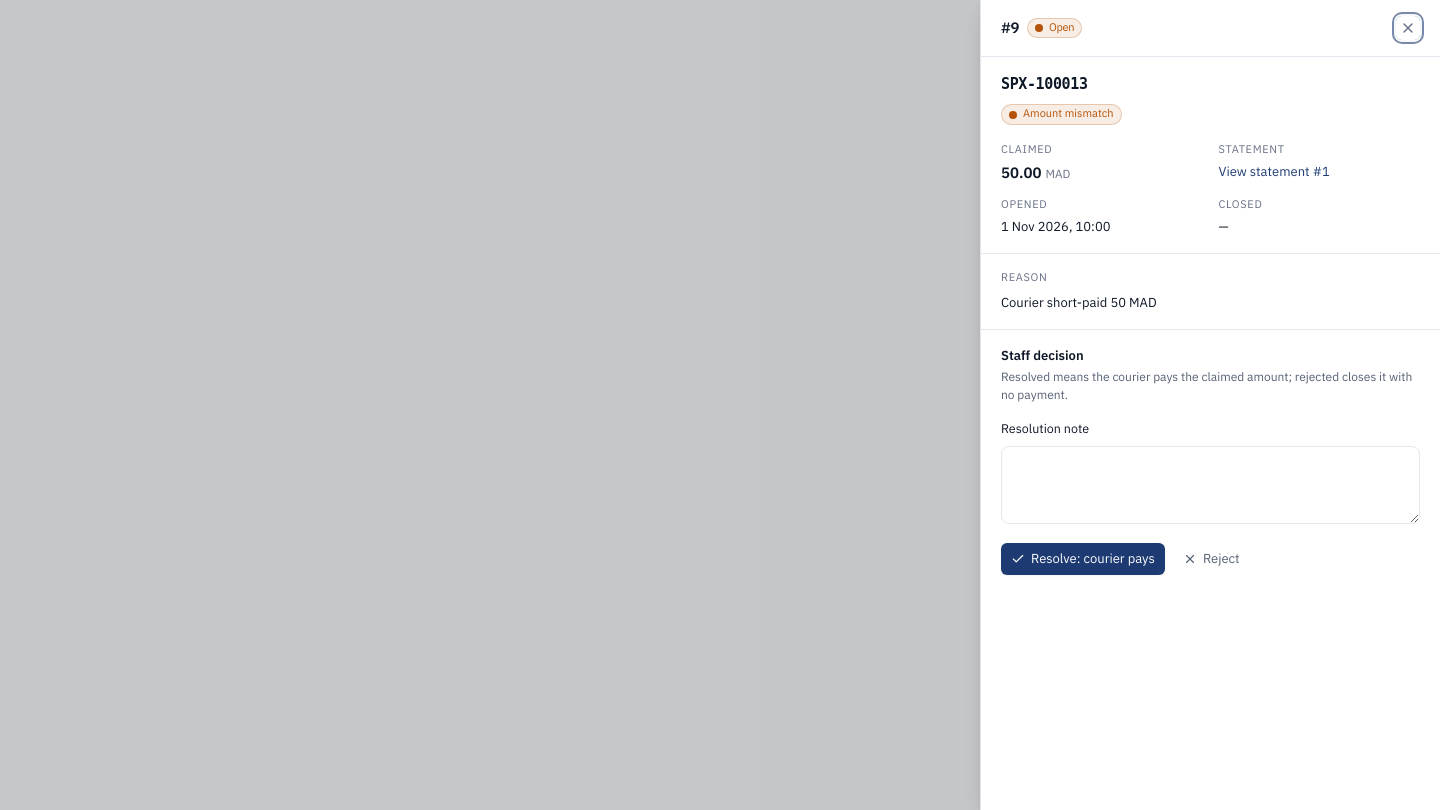
Test: DisputeDrawer › shows a 409 ProblemDetail nicely
Click the button with test id "reject-dispute".
click(1211, 559)  # box x1=1173 y1=543 x2=1250 y2=575
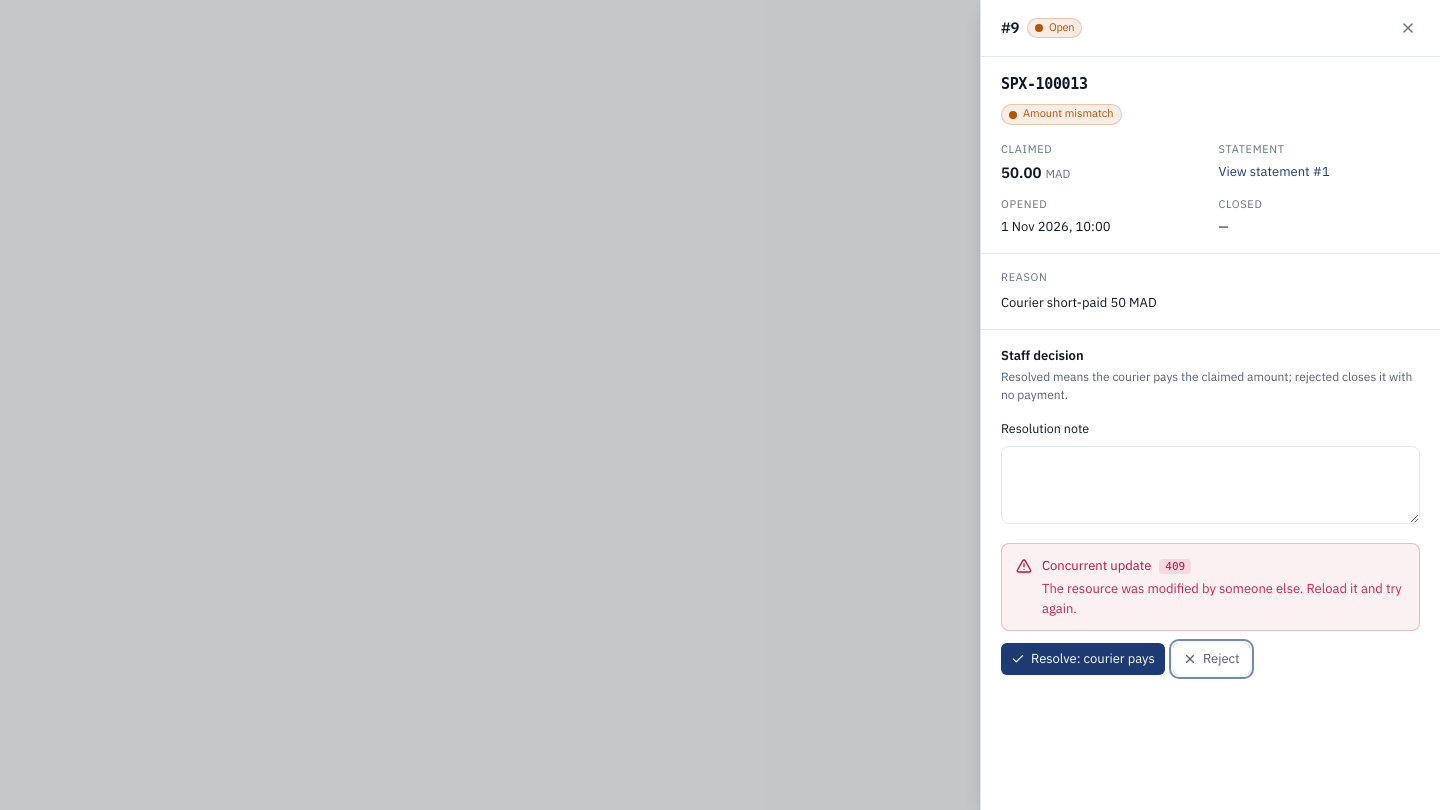
expect the message with test id "problem" shows "Concurrent update": met, box x1=1042 y1=556 x2=1151 y2=575
expect the message with test id "problem" shows "409": met, box x1=1165 y1=560 x2=1185 y2=573
expect the message with test id "problem" shows "modified by someone else": met, box x1=1042 y1=579 x2=1402 y2=618
